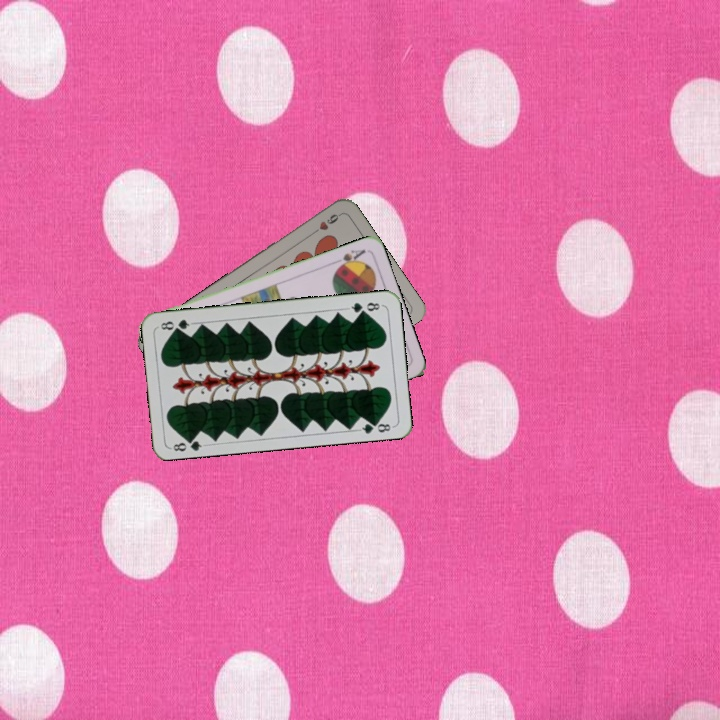G8: (167, 433, 208, 454), (344, 298, 384, 316)
H9: (308, 209, 343, 237)
SA: (329, 245, 368, 272)
